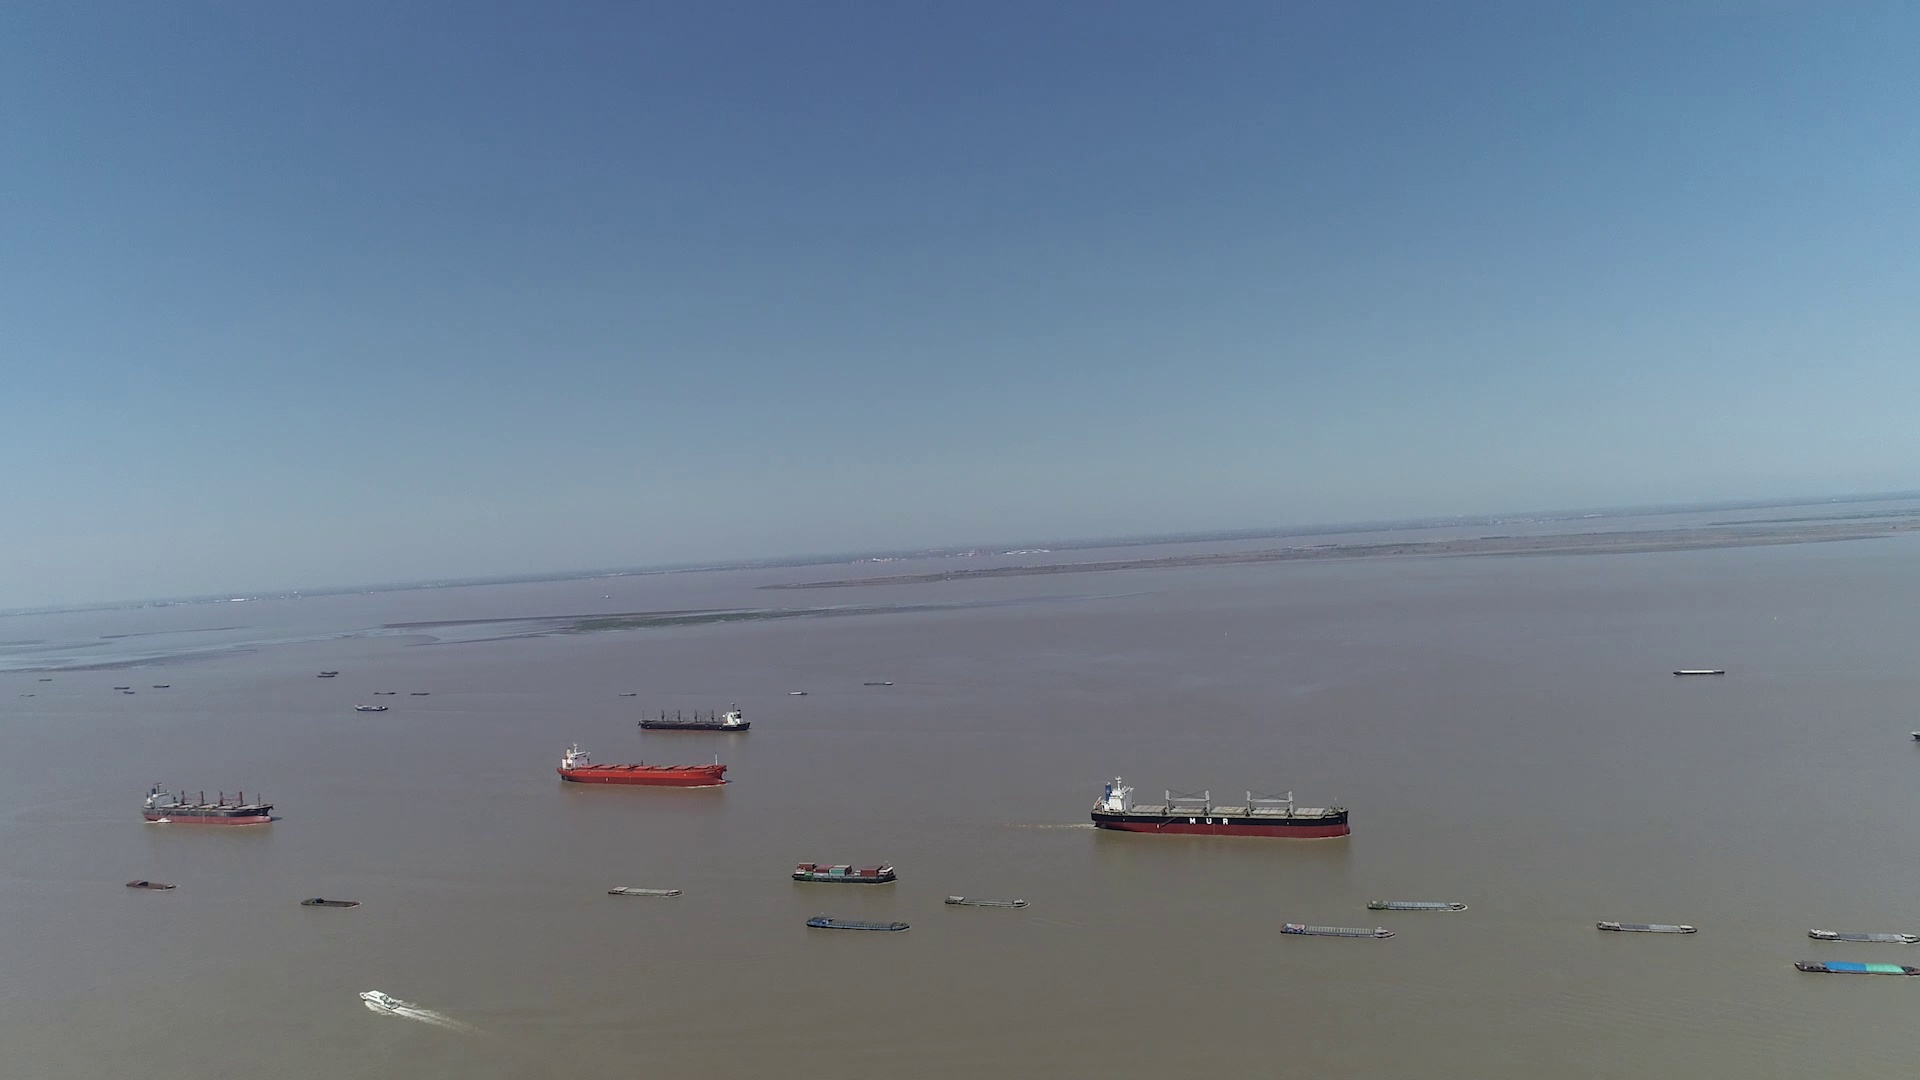ship: (1095, 774, 1348, 839), (555, 744, 727, 787), (140, 781, 274, 824), (637, 704, 749, 733), (1793, 953, 1919, 977), (364, 986, 448, 1015), (790, 861, 895, 884), (1280, 920, 1396, 940), (1812, 926, 1917, 945), (804, 914, 907, 934), (1594, 916, 1698, 934), (1370, 895, 1464, 913), (945, 891, 1027, 907), (604, 885, 679, 898), (299, 895, 360, 907), (124, 878, 175, 889), (1673, 667, 1724, 675), (352, 703, 389, 712), (112, 683, 132, 690)
